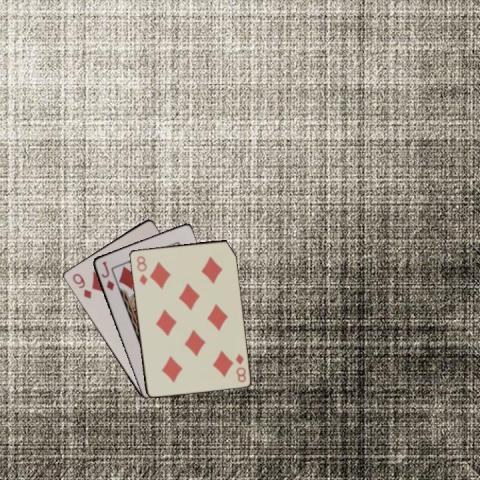8d: (133, 253, 149, 286), (233, 351, 247, 383)
9d: (68, 270, 92, 300)
Jd: (98, 258, 115, 292)
